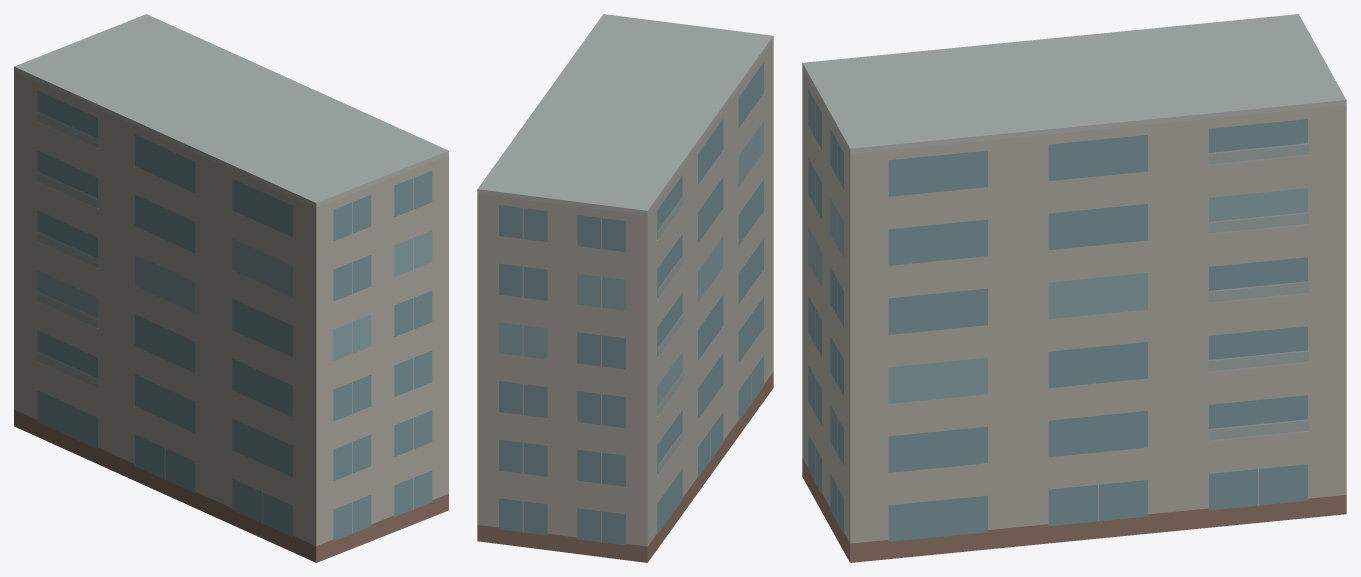
File: survey-upis-32735673.glb
3 views of the same model, side by side, from view 1: azimuth 30°, elevation 25°; view 2: azimuth 150°, elevation 25°; view 3: azimuth 270°, elevation 25° (orthographic). The views are drawn at different scales.
Visible parts, largest first — view 1: survey-upis-32735673.tmp; view 2: survey-upis-32735673.tmp; view 3: survey-upis-32735673.tmp.
Part boxes in pixels (x1=…): survey-upis-32735673.tmp: x1=14, y1=14, x2=448, y2=562; survey-upis-32735673.tmp: x1=477, y1=14, x2=773, y2=562; survey-upis-32735673.tmp: x1=802, y1=14, x2=1346, y2=562.
Size of the model in its own units: 13.59 by 19.45 by 23.17.
